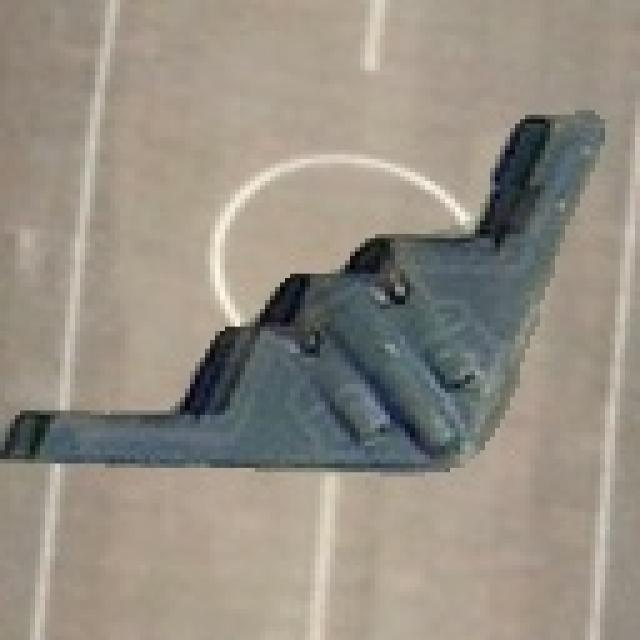B-2_TopDown: (0, 101, 610, 476)
